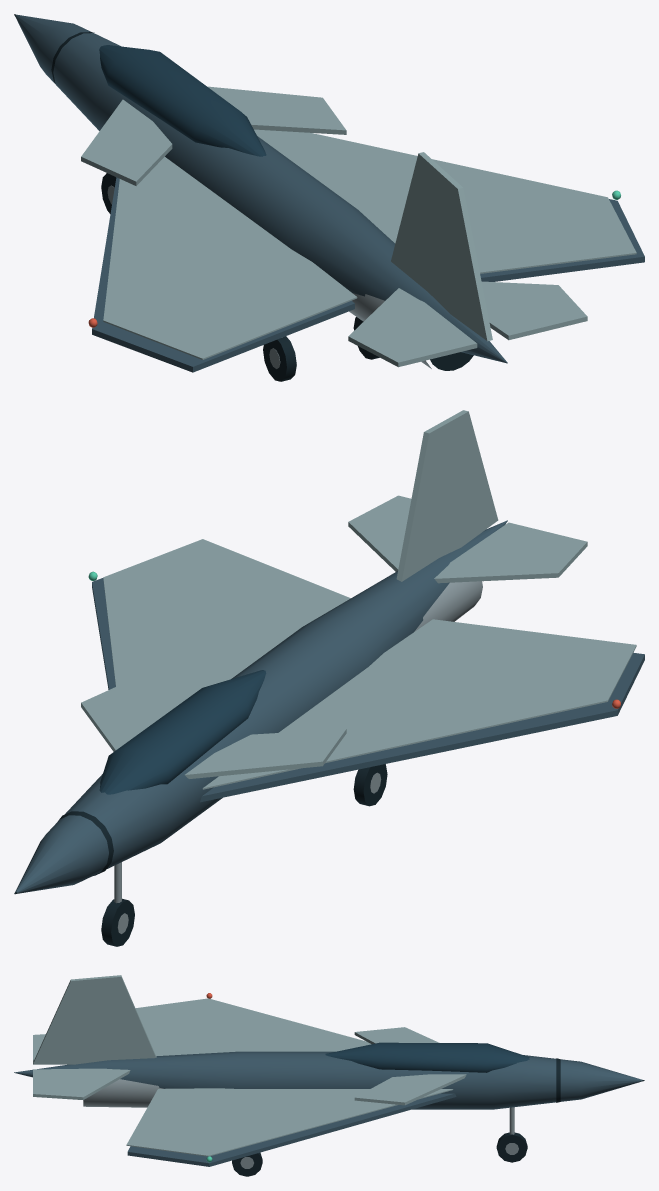
The picture shows the model from 3 angles, top to bottom: view 1: azimuth 30°, elevation 25°; view 2: azimuth 150°, elevation 25°; view 3: azimuth 270°, elevation 25°; orthographic projection. The views are drawn at different scales.
Visible parts, largest first — view 1: 岚影 D-9 original model, landing-gear; view 2: 岚影 D-9 original model, landing-gear; view 3: 岚影 D-9 original model, landing-gear.
Part boxes in pixels (x1,y1,x2,y2): 岚影 D-9 original model: [14, 14, 644, 372]; landing-gear: [101, 173, 379, 381]; 岚影 D-9 original model: [14, 410, 644, 894]; landing-gear: [101, 764, 387, 946]; 岚影 D-9 original model: [14, 975, 644, 1166]; landing-gear: [232, 1107, 527, 1176].
Size of the model in its own units: 9.71 by 5.03 by 15.61.
